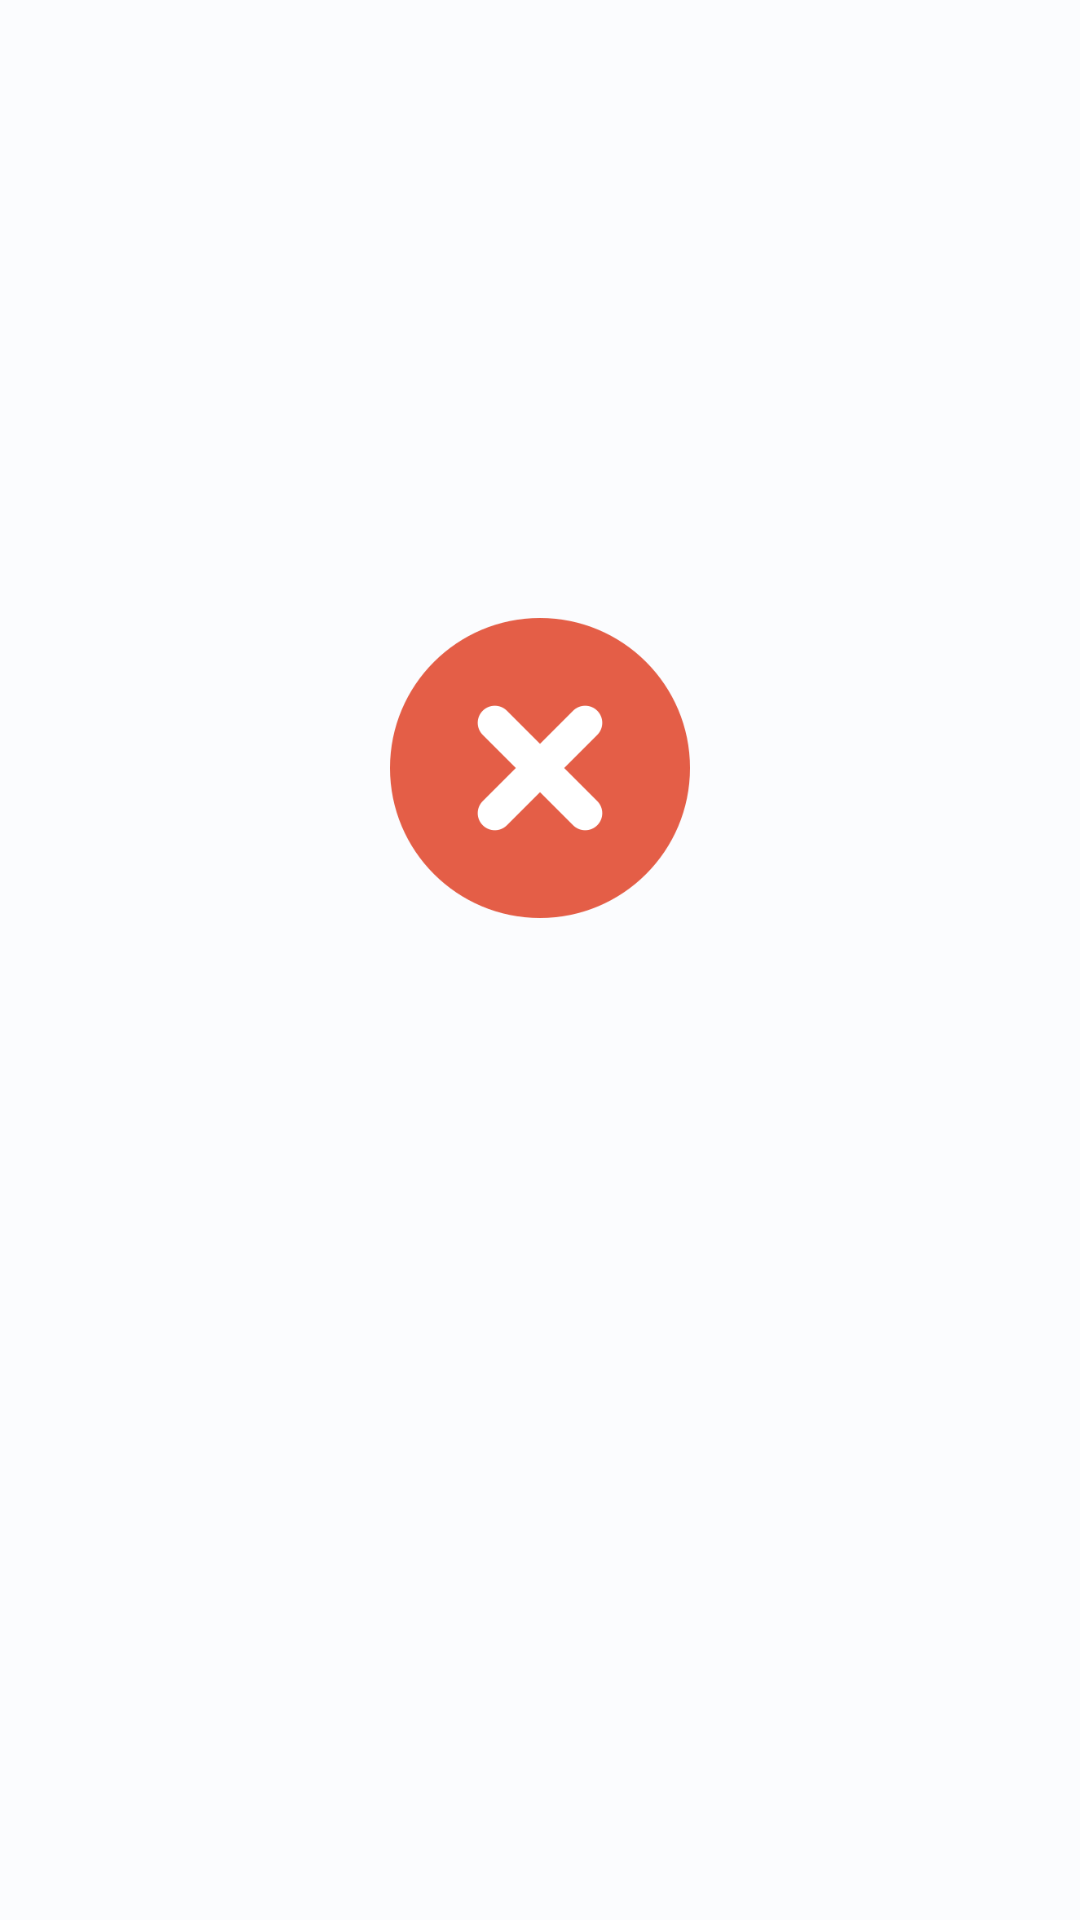

Screen size 1080px×1920px. Icon name, then its center in pixels as [x,y]:
cancelled: [540,768]
